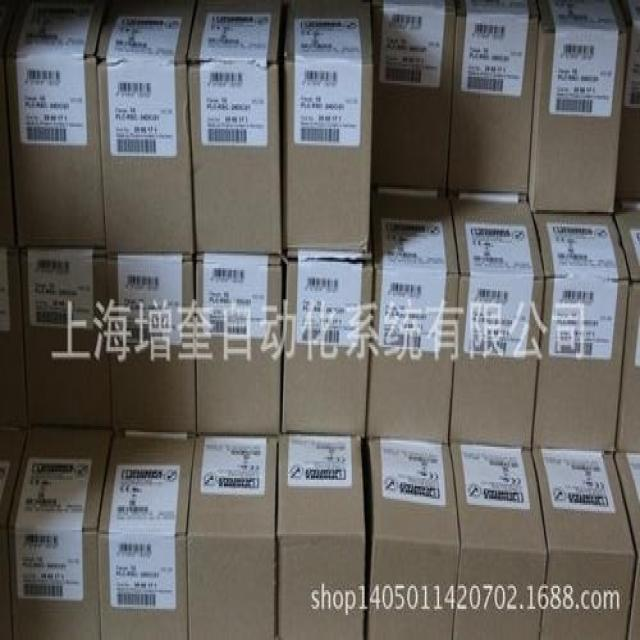box: (96, 0, 200, 258), (4, 0, 110, 251), (187, 0, 285, 256), (449, 197, 544, 451), (532, 210, 630, 453), (366, 193, 460, 445), (280, 0, 374, 251), (8, 428, 113, 640), (529, 0, 627, 214), (361, 436, 460, 640), (99, 432, 196, 640), (532, 451, 636, 640), (451, 443, 548, 640), (187, 434, 279, 640), (276, 434, 365, 640), (447, 0, 539, 195), (282, 251, 374, 436), (20, 254, 113, 430), (106, 254, 196, 434), (371, 0, 457, 187), (195, 256, 283, 436), (0, 428, 29, 640), (616, 210, 640, 453), (0, 247, 28, 430), (616, 453, 640, 640), (618, 0, 640, 199)
